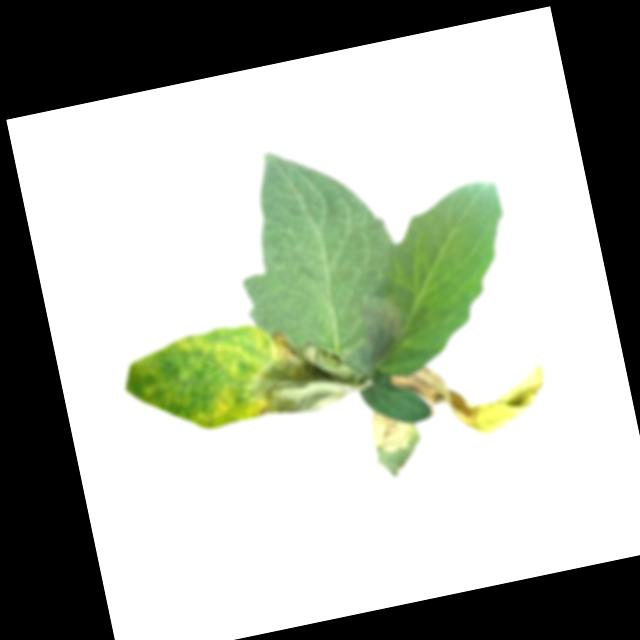Late_blight: (390, 339, 557, 450), (242, 315, 373, 422), (331, 284, 419, 382), (367, 400, 418, 456)
healthy: (216, 131, 410, 369)
